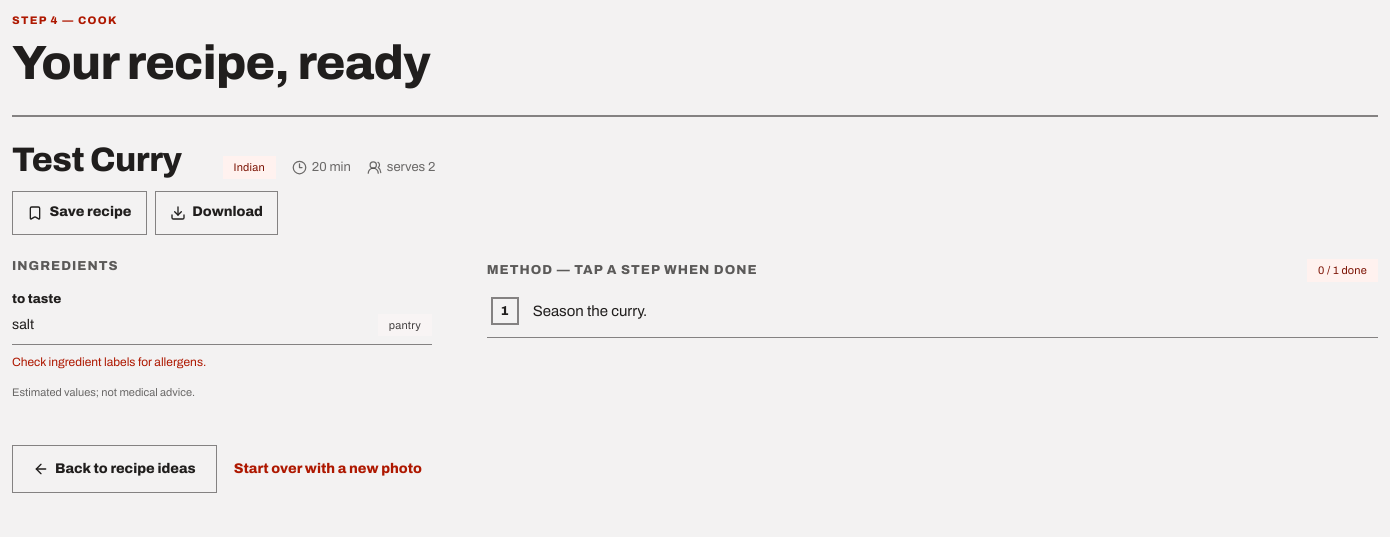
RecipesScreen › shows an inline notice when browser storage rejects a save
This screenshot has width=1390, height=537.
What coordinates should you click on to do the following:
click the button "Save recipe"
I would click on:
 (79, 213)
Its box is [12,191,147,235].
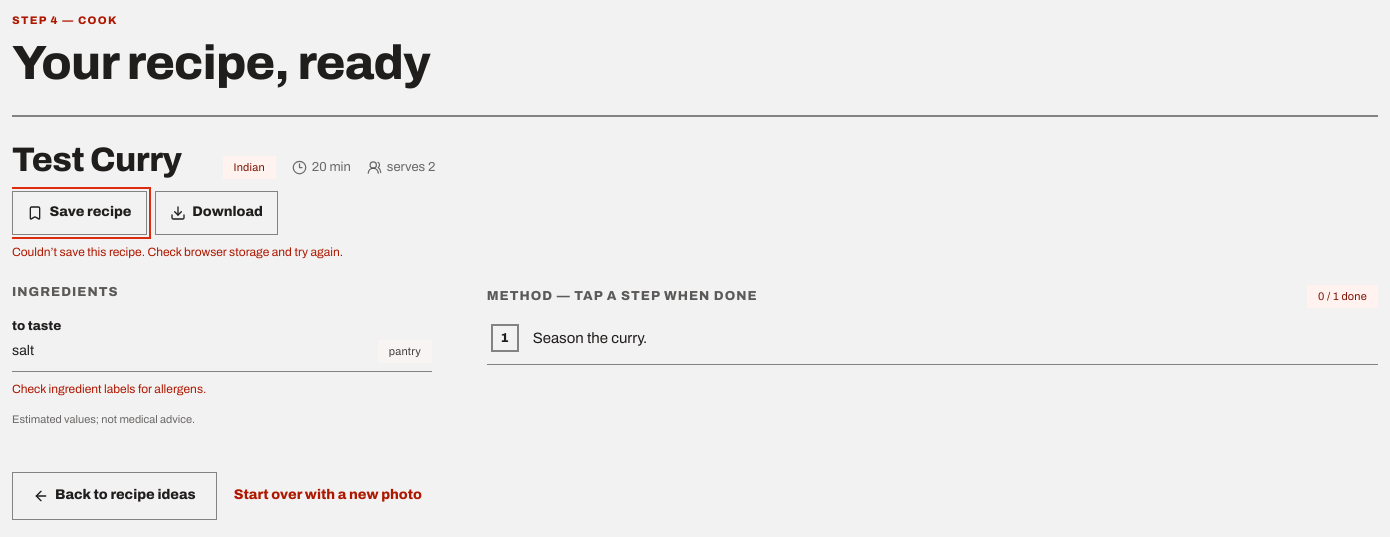
expect the message reads "Couldn’t save this recipe. Check browser storage and try again.": met, box [12,245,343,259]
